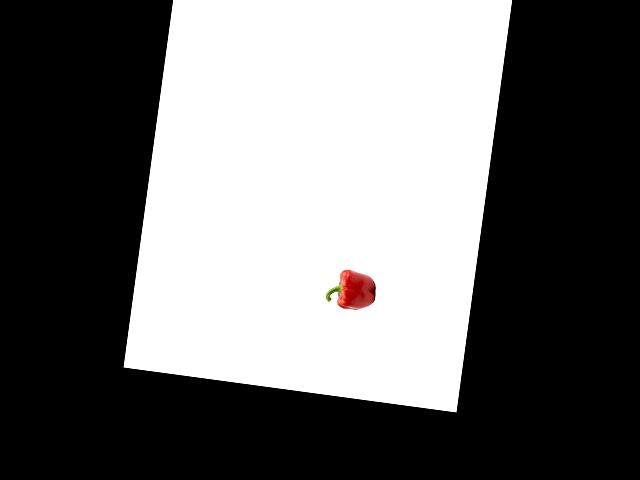bell_pepper: (322, 264, 380, 315)
